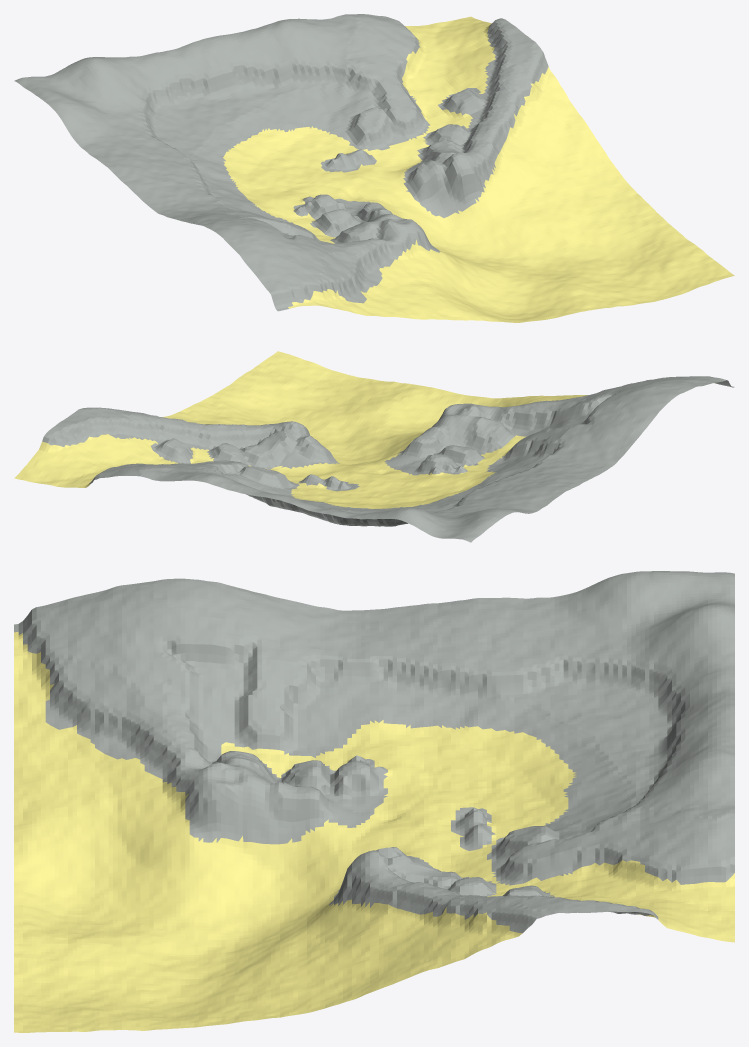
Rendered from CoveTerrain.fbx.
3 renders of one model, top to bottom at view 1: azimuth 30°, elevation 25°; view 2: azimuth 150°, elevation 25°; view 3: azimuth 270°, elevation 25°, orthographic. The views are drawn at different scales.
Visible parts, largest first — view 1: cove; view 2: cove; view 3: cove.
Boxes of the visible parts, <box> form: cove: <box>14,14,734,322</box>; cove: <box>14,351,734,542</box>; cove: <box>14,571,734,1032</box>.
Bounding box in the file's own units: 1 × 0.2748 × 1.
